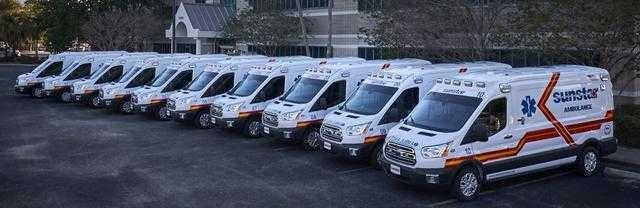car: (379, 63, 618, 201)
